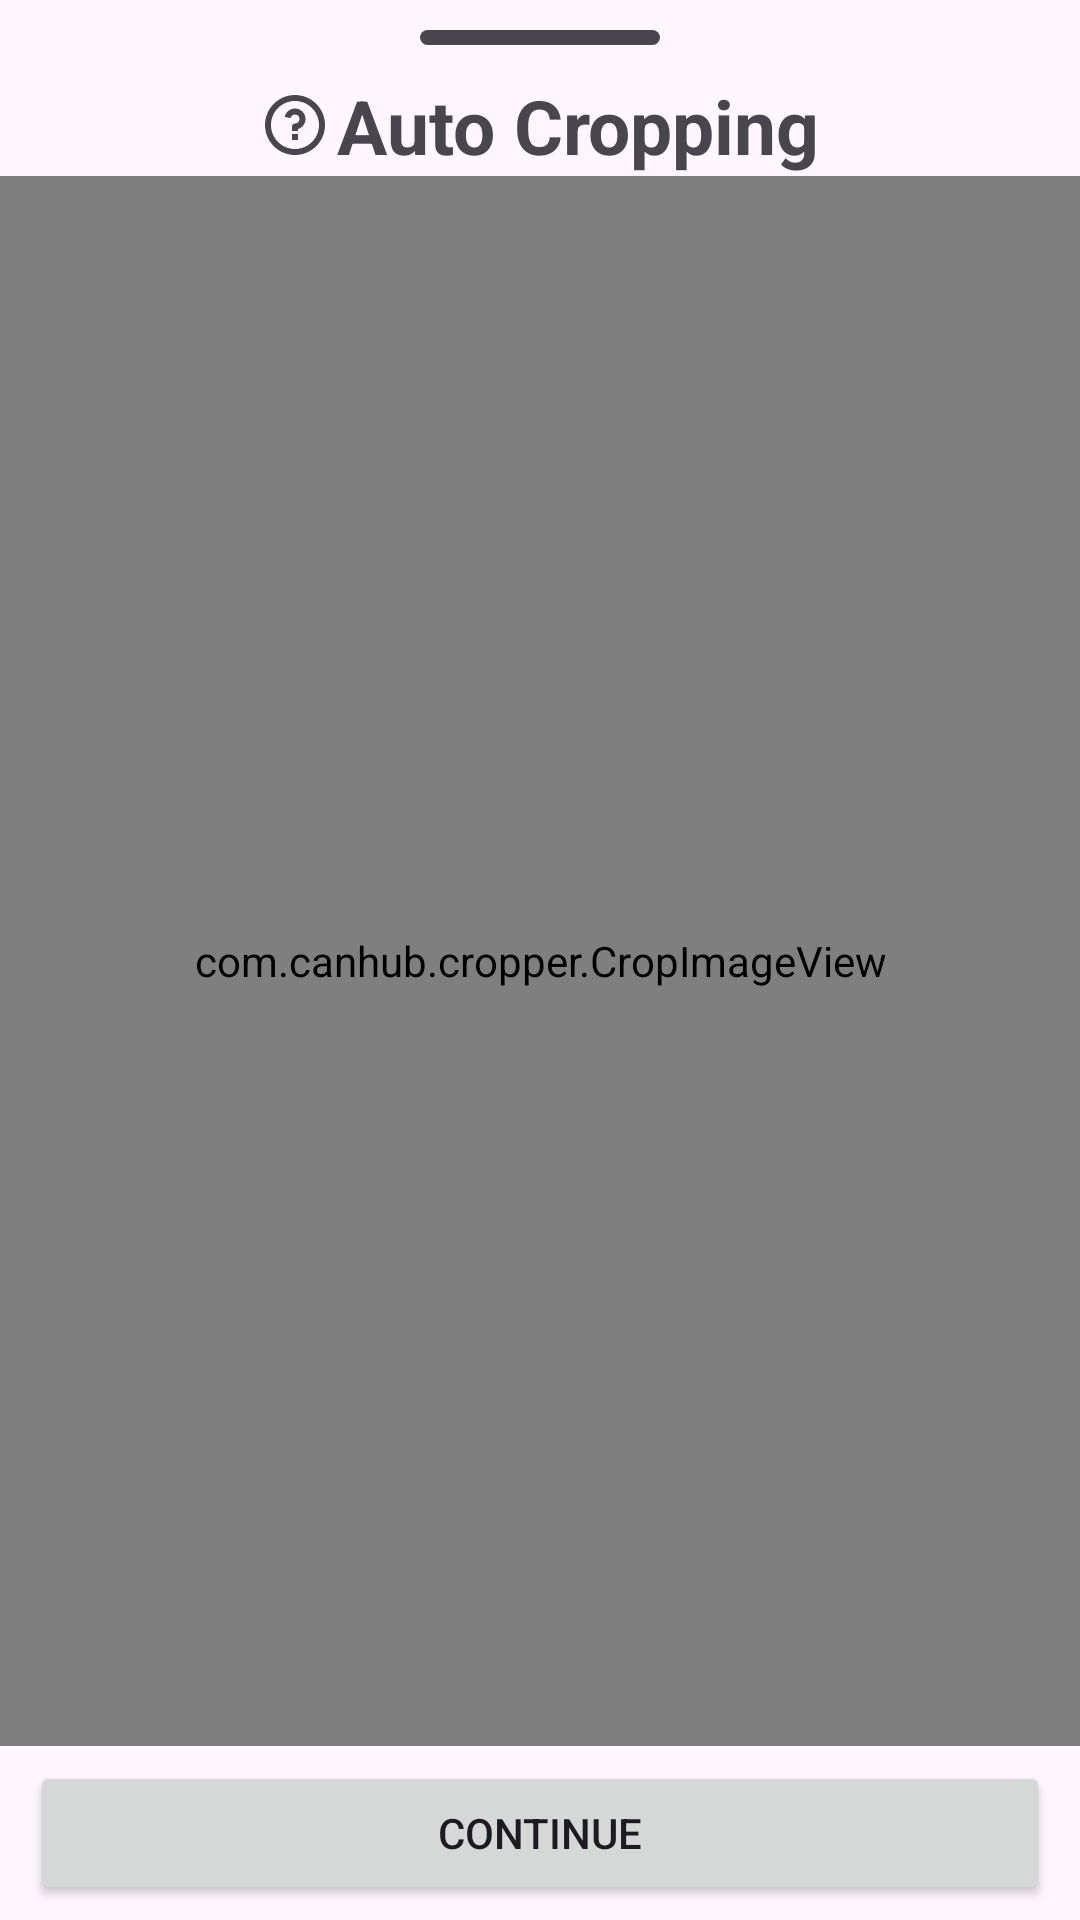

Screen size 1080px×1920px. Icon name, then its box in pixels as (x1, y1, x2, y2):
question line: (265, 95, 325, 155)
